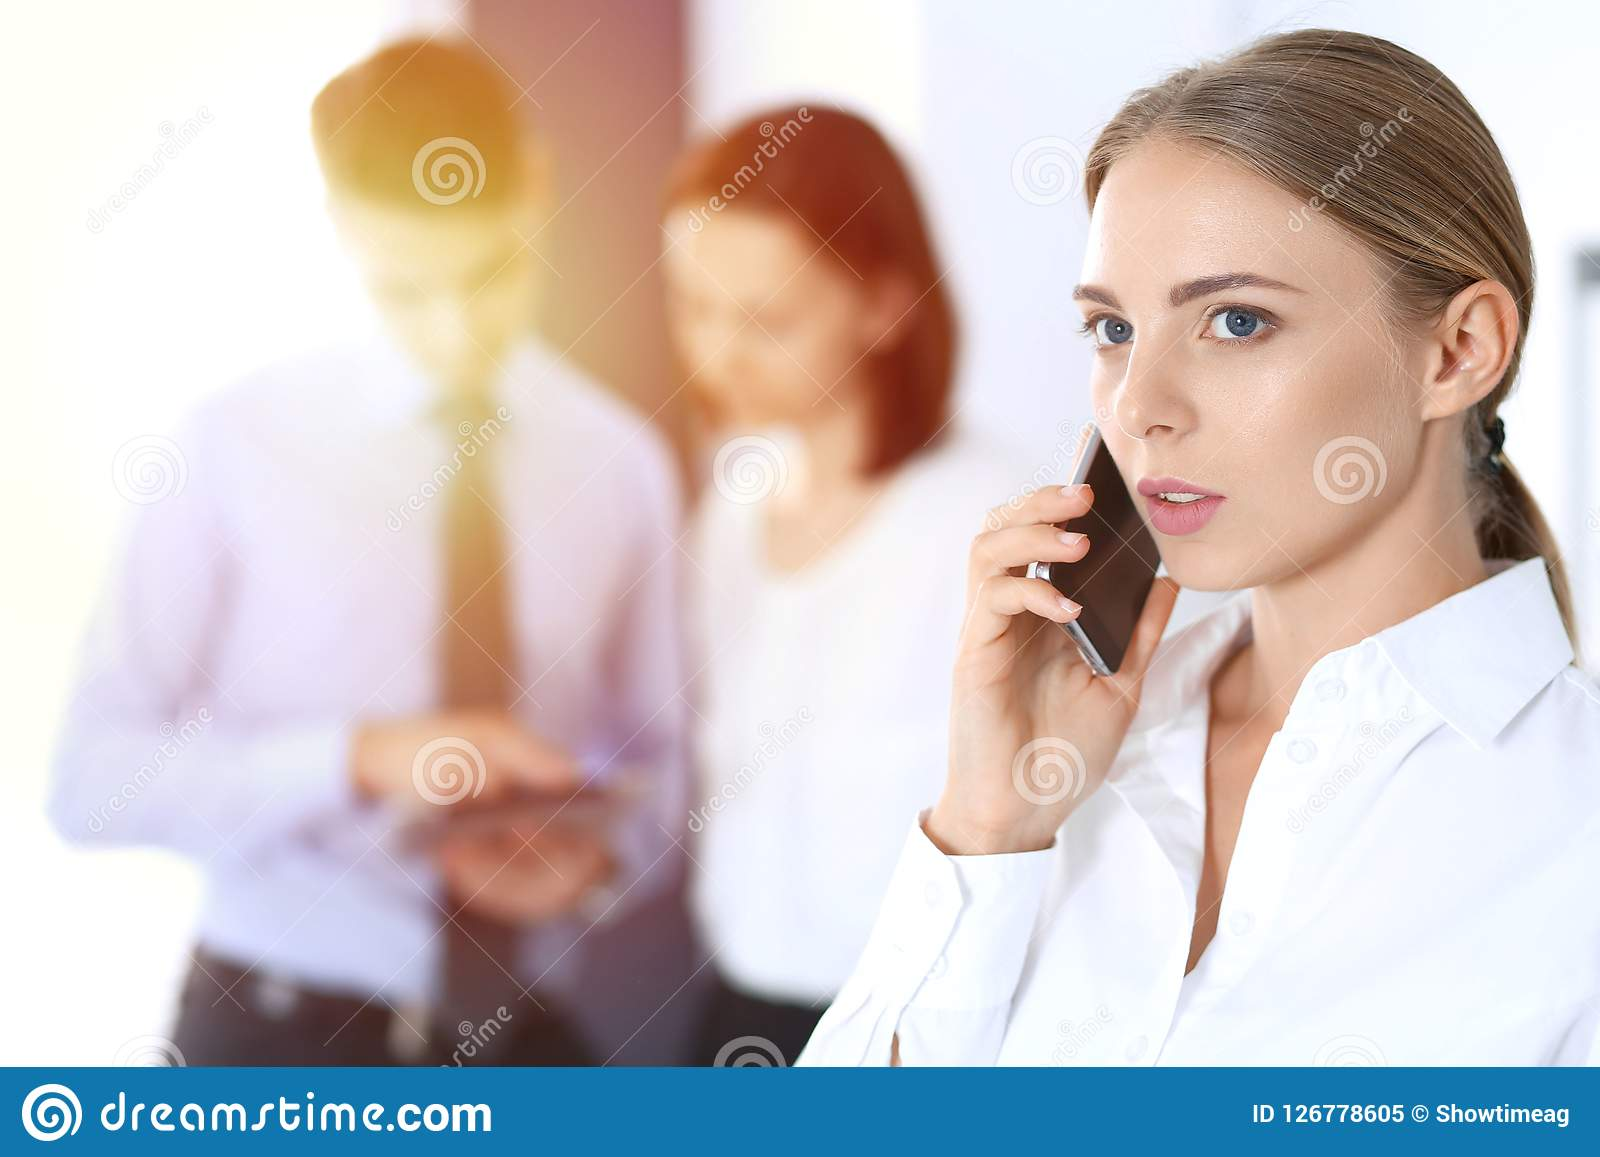phone: (1029, 420, 1166, 677)
talk: (940, 241, 1318, 820)
